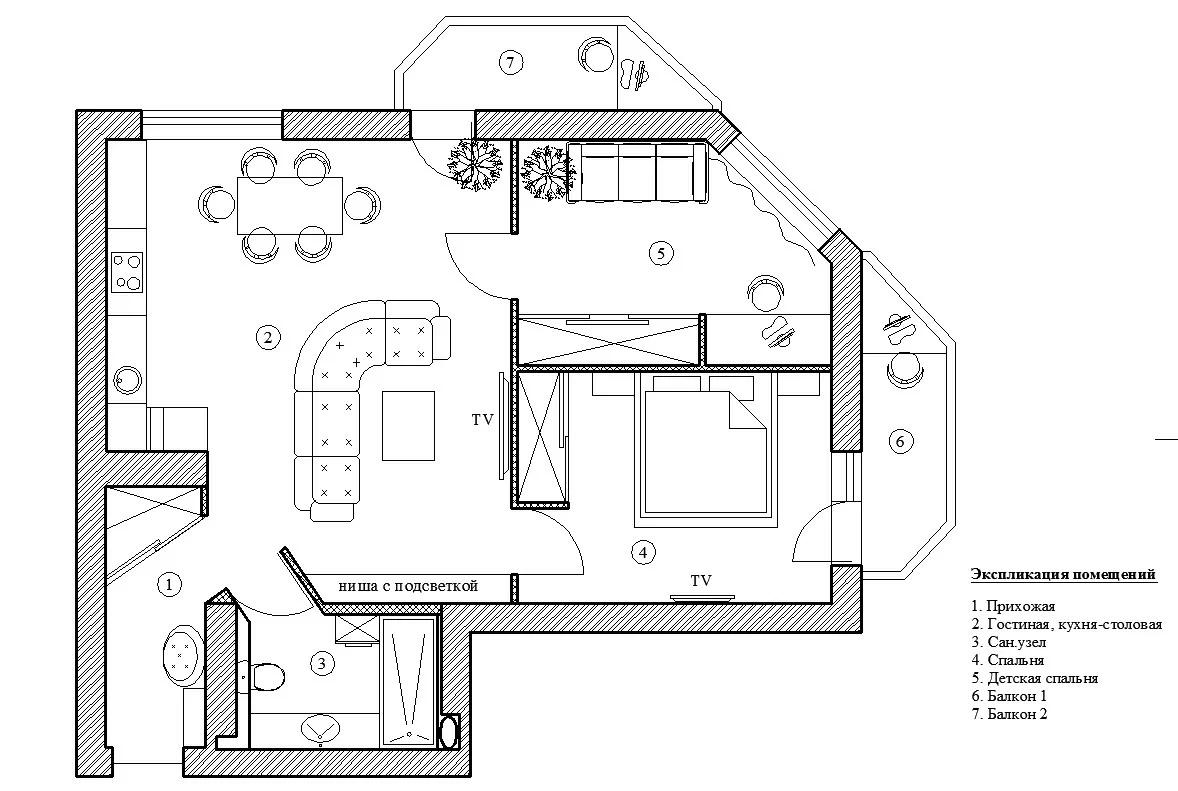balcony: (862, 259, 947, 572), (403, 26, 713, 111)
bathroom: (217, 607, 461, 750)
bedroom: (518, 373, 831, 602)
children_room: (518, 140, 832, 367)
hallway: (103, 487, 512, 764)
kitchen: (106, 140, 207, 452)
living_room: (207, 138, 512, 512)
